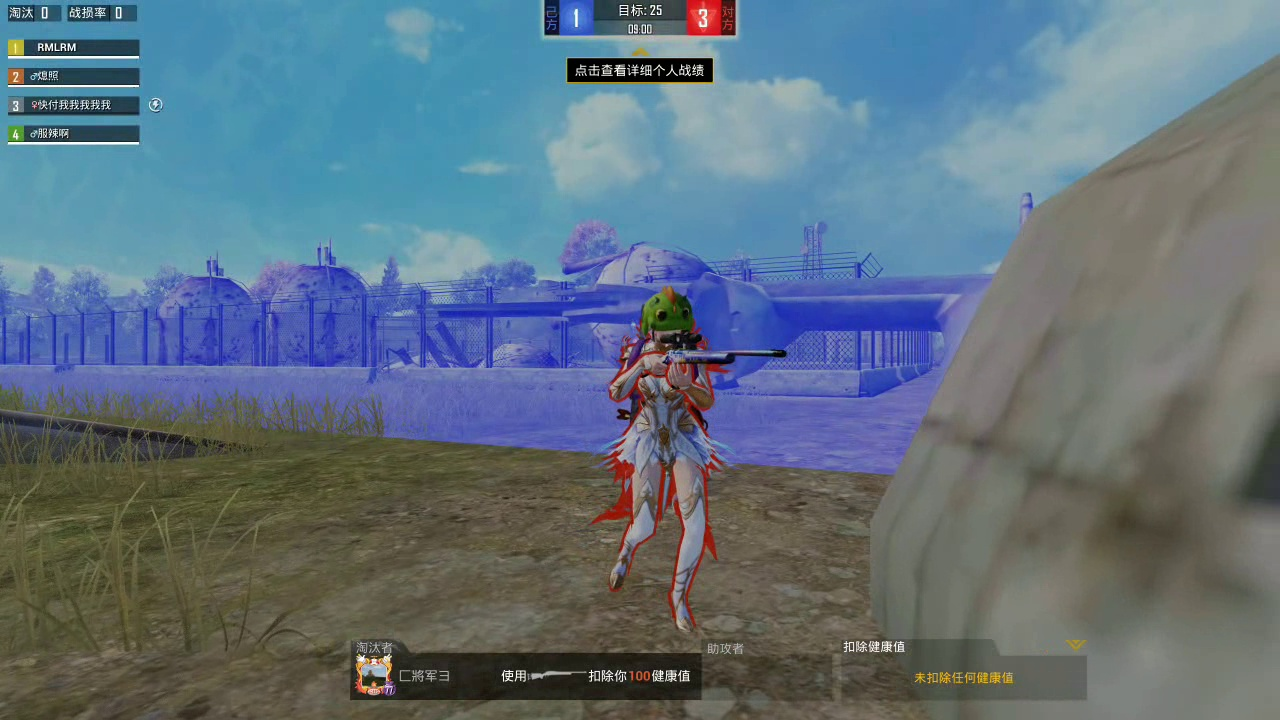enemy: (612, 298, 732, 621)
